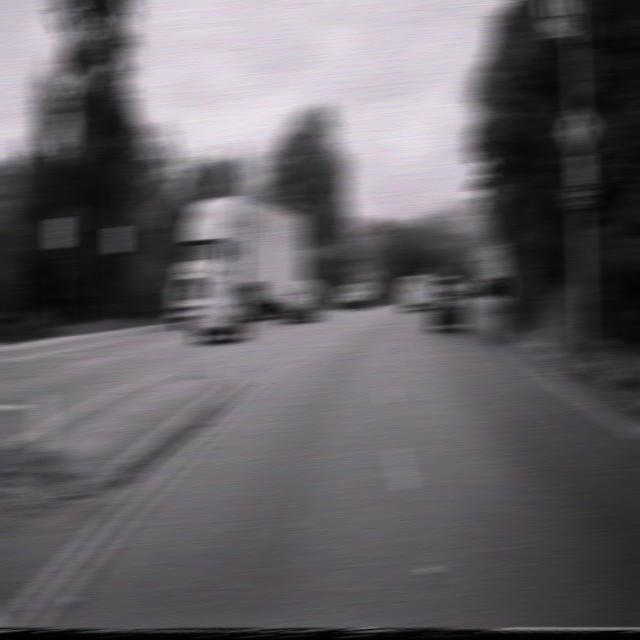pedestrianCrossing: (560, 100, 596, 156)
